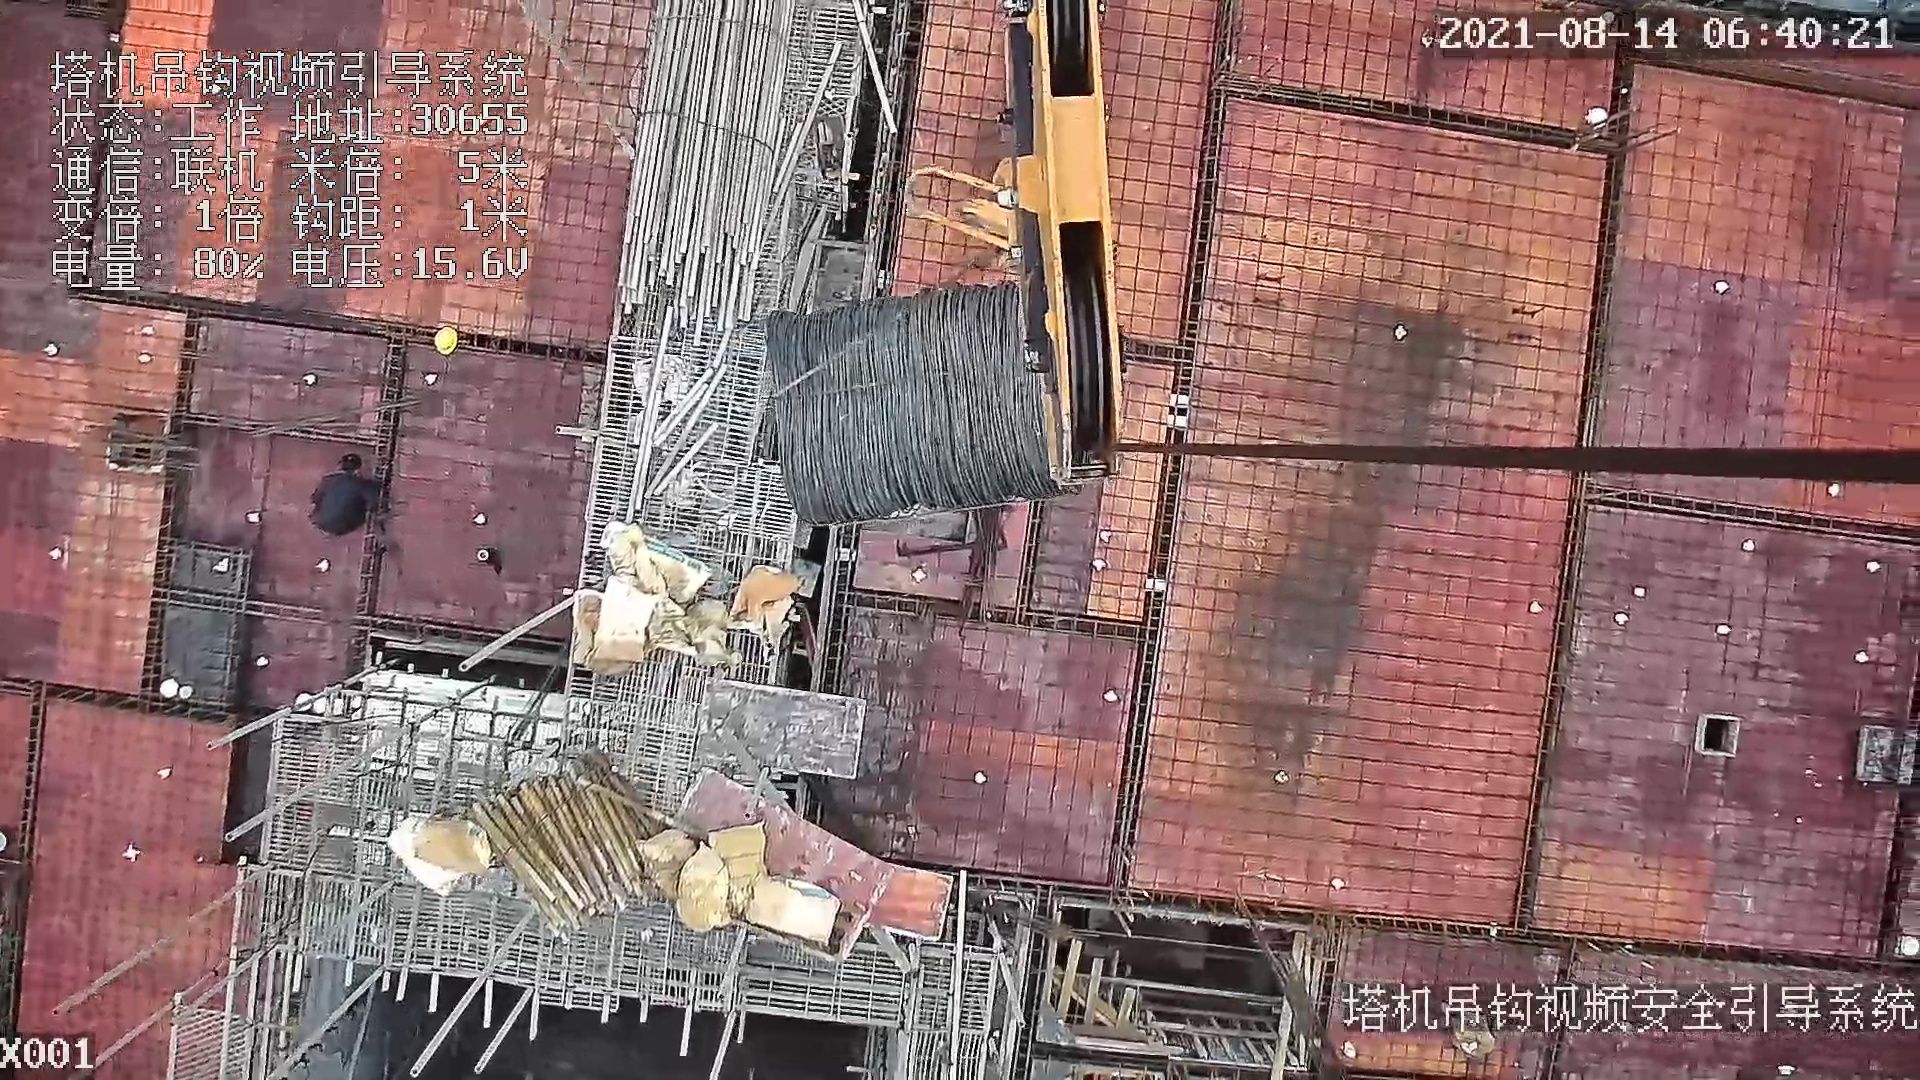helmet: (428, 327, 458, 356)
hook: (908, 1, 1126, 485)
person: (300, 444, 386, 537)
scaffold: (481, 752, 643, 935)
